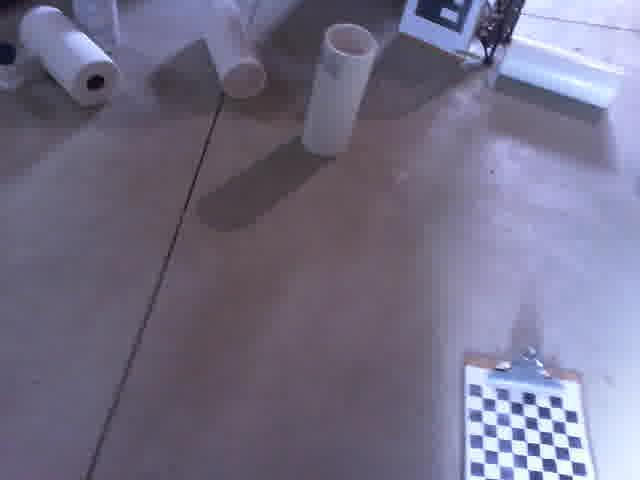coral: (296, 13, 383, 165), (194, 0, 273, 107), (61, 0, 135, 65)
